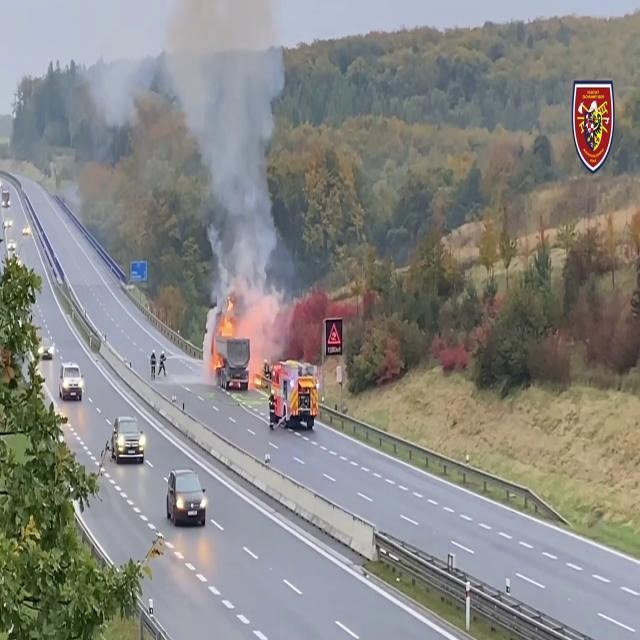Fire: (210, 302, 239, 374)
Smoke: (184, 1, 299, 318)
